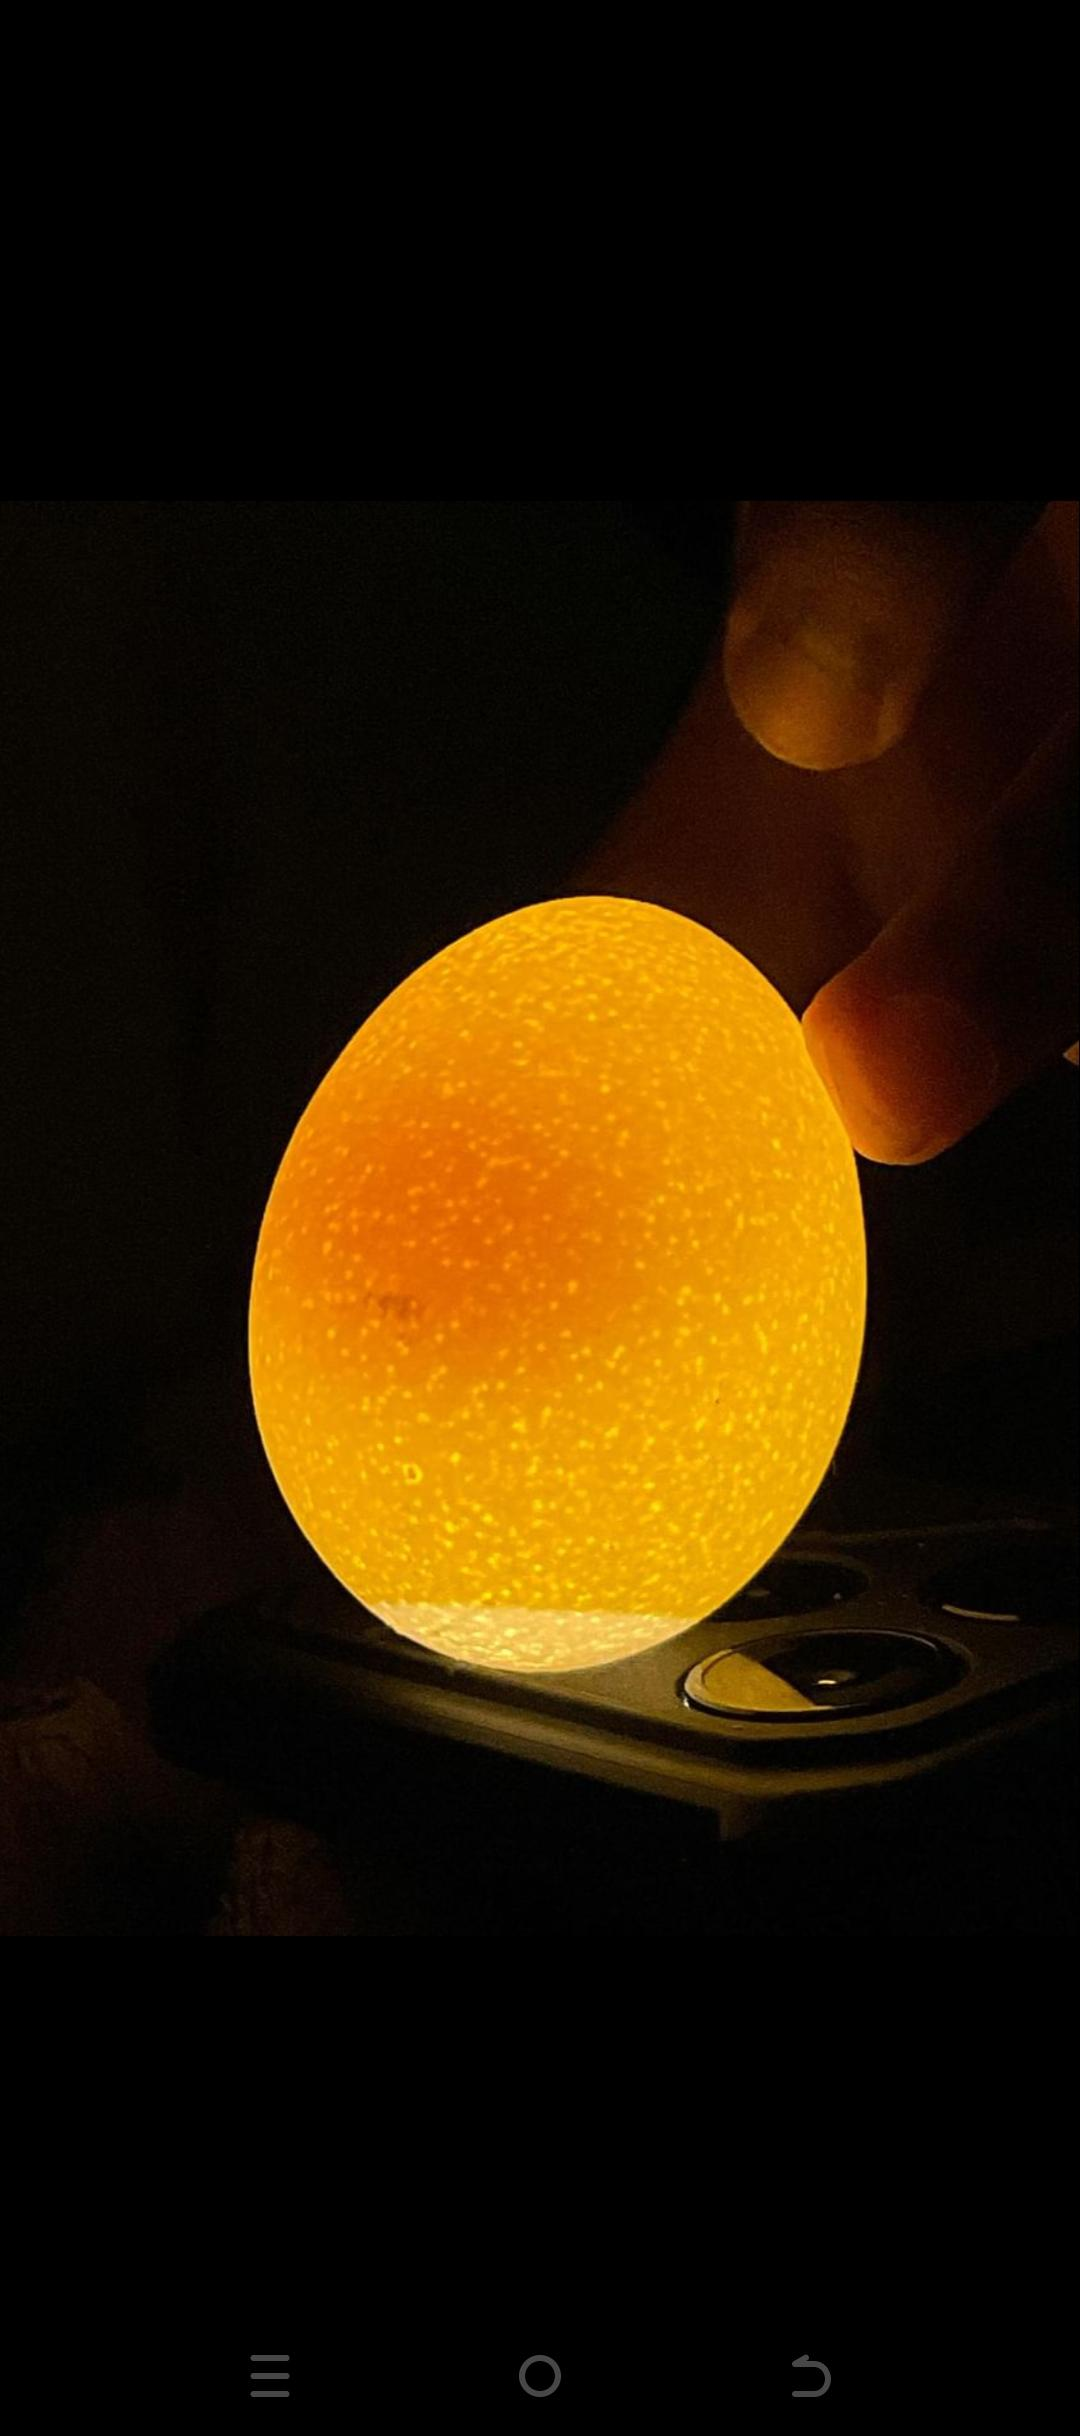A - Good: (236, 867, 873, 1723)
